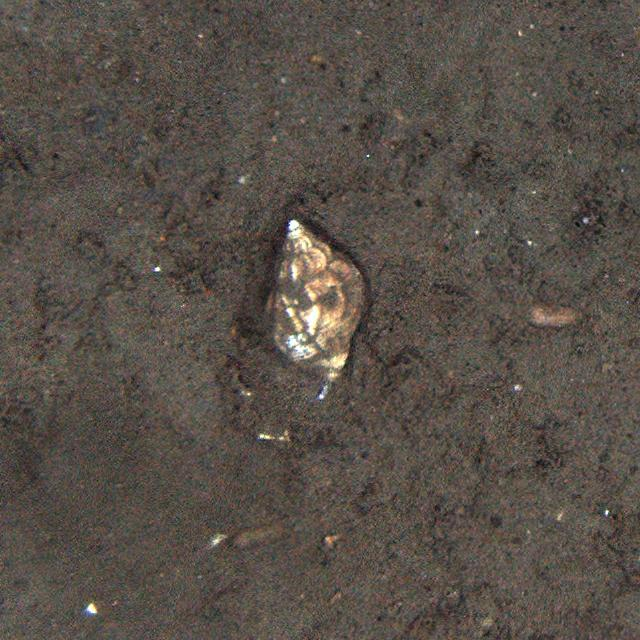whelk: (268, 227, 364, 379)
